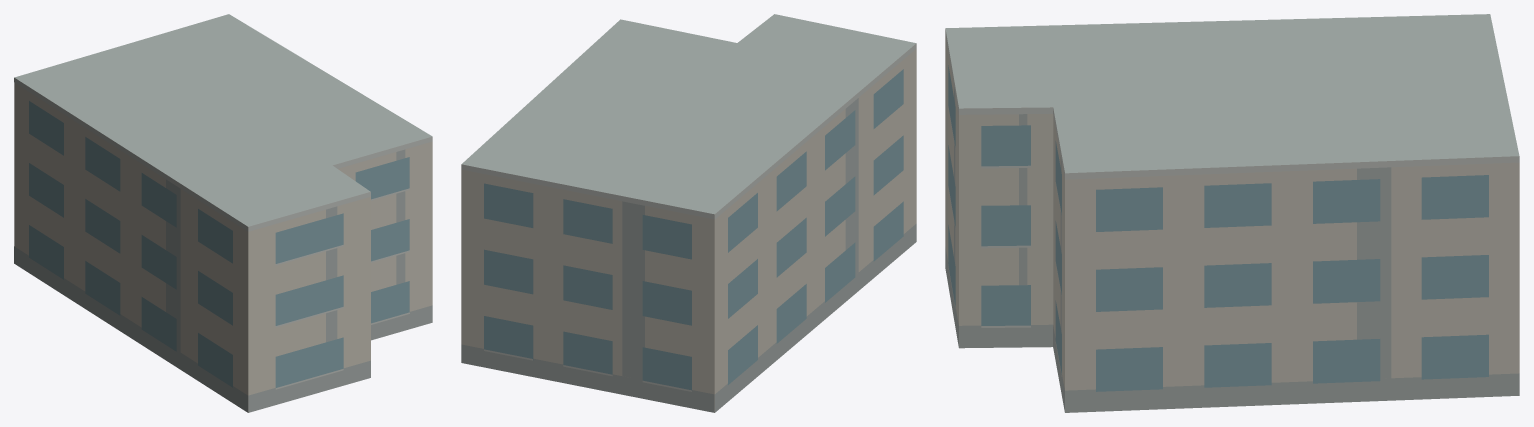
The model's file is survey-upis-32589694.glb.
3 views of the same model, side by side, from view 1: azimuth 30°, elevation 25°; view 2: azimuth 150°, elevation 25°; view 3: azimuth 270°, elevation 25° (orthographic). The views are drawn at different scales.
Visible parts, largest first — view 1: survey-upis-32589694.tmp; view 2: survey-upis-32589694.tmp; view 3: survey-upis-32589694.tmp.
Part boxes in pixels (x1,y1,x2,y2): survey-upis-32589694.tmp: (14,14,432,412); survey-upis-32589694.tmp: (461,14,916,412); survey-upis-32589694.tmp: (945,14,1519,412).
Bounding box in the file's own units: 13.05 × 9.15 × 19.88.
